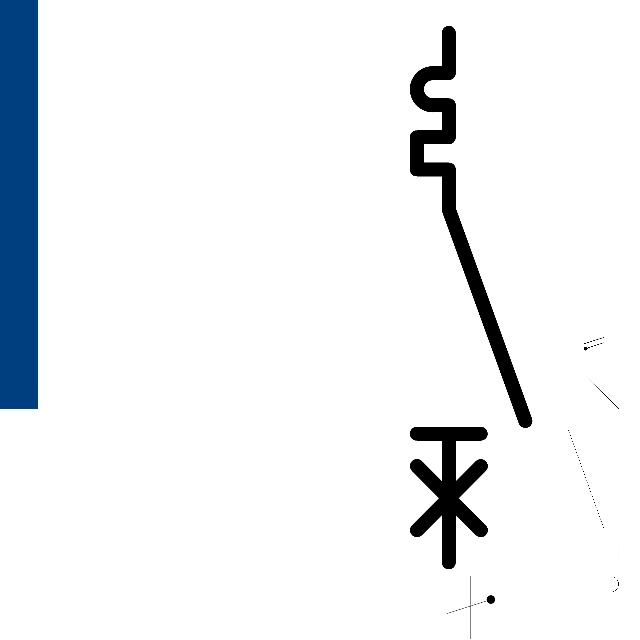interruptor_termomagnetico: (403, 19, 539, 576), (562, 357, 625, 617)
